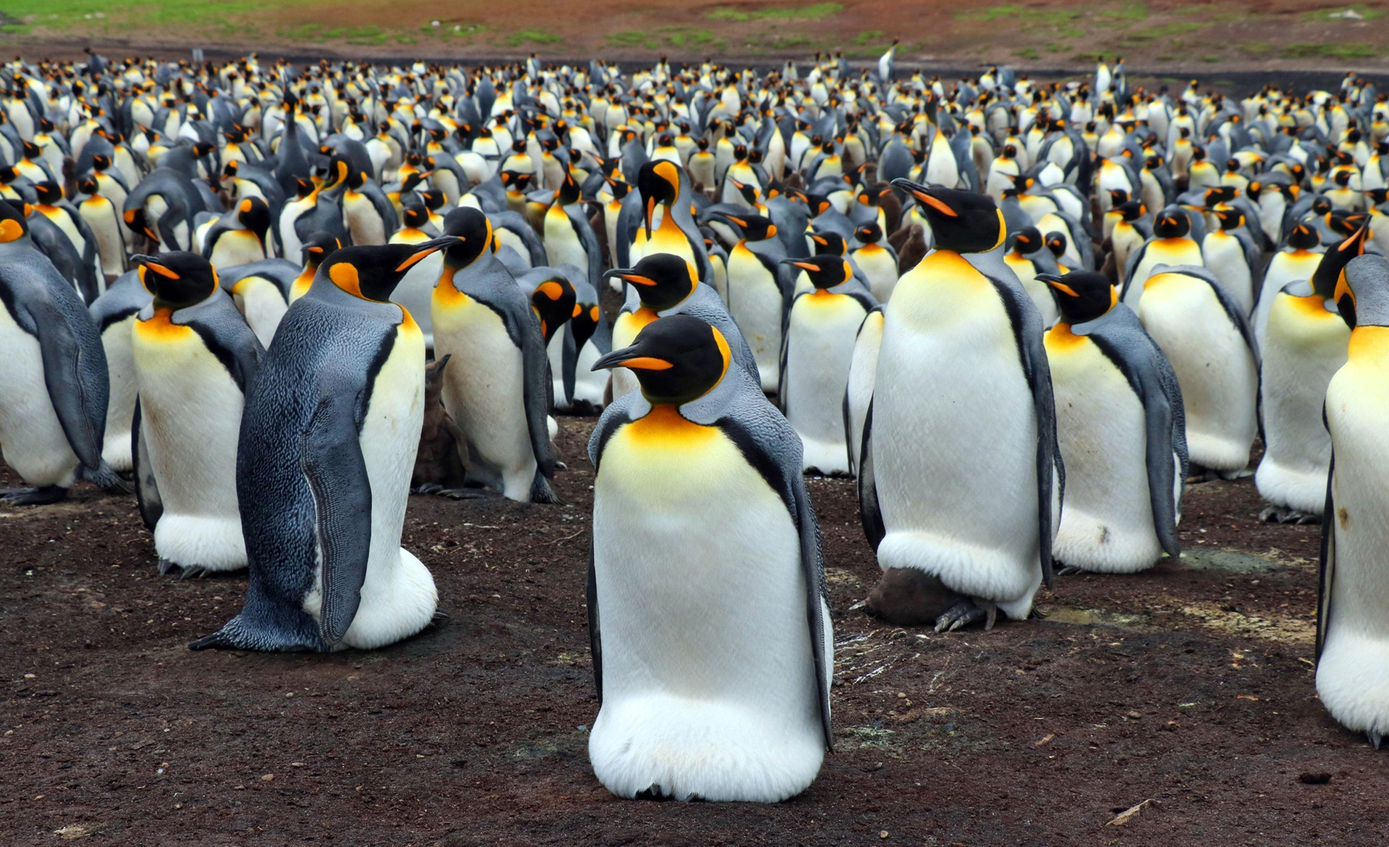Penguin: (586, 315, 833, 803), (190, 236, 456, 654), (857, 179, 1064, 632), (1039, 271, 1188, 572), (130, 252, 263, 575), (0, 201, 127, 504), (432, 206, 556, 501), (1316, 255, 1389, 746), (608, 160, 760, 382), (1256, 228, 1367, 523), (1137, 266, 1258, 477), (779, 255, 874, 474), (727, 214, 792, 393), (539, 266, 613, 414), (1248, 225, 1327, 349), (10, 198, 95, 308), (1185, 202, 1262, 319), (32, 179, 109, 294), (1123, 206, 1201, 311), (732, 176, 809, 275), (544, 162, 601, 293), (996, 221, 1062, 328), (84, 149, 150, 254), (128, 167, 204, 252), (516, 263, 575, 369), (76, 174, 130, 288), (339, 167, 409, 245), (201, 195, 274, 268), (281, 172, 330, 280), (595, 176, 645, 275), (234, 123, 297, 199), (1103, 198, 1155, 287), (1034, 119, 1091, 199), (845, 220, 901, 300), (1209, 182, 1270, 255), (486, 210, 550, 272), (916, 104, 961, 190), (786, 187, 855, 243), (994, 165, 1063, 220), (222, 159, 288, 216), (274, 117, 323, 193), (806, 226, 863, 291), (462, 168, 530, 220), (319, 144, 365, 215), (1257, 176, 1299, 253), (750, 93, 787, 180), (154, 140, 223, 186), (1042, 211, 1092, 272), (1093, 153, 1137, 221), (389, 197, 441, 254), (422, 152, 470, 213), (877, 117, 918, 185), (1299, 192, 1351, 245), (720, 143, 761, 210), (100, 127, 149, 182), (36, 115, 76, 182), (0, 87, 43, 149), (699, 233, 736, 305), (611, 127, 653, 185), (1140, 153, 1174, 221), (807, 164, 871, 200), (698, 199, 751, 241), (365, 135, 404, 191), (214, 131, 257, 181), (986, 139, 1018, 206), (849, 184, 896, 229), (599, 154, 631, 220), (1181, 140, 1222, 191), (19, 139, 58, 191), (1102, 187, 1131, 256), (491, 83, 525, 140), (688, 135, 720, 194), (67, 111, 100, 166), (524, 183, 566, 226), (13, 73, 49, 123), (470, 125, 505, 176), (0, 101, 27, 167), (497, 135, 534, 181), (1046, 232, 1083, 278), (201, 86, 236, 133), (536, 137, 571, 184), (806, 141, 847, 181), (0, 164, 34, 212), (262, 99, 298, 144), (123, 85, 158, 131), (968, 125, 996, 182), (1114, 118, 1152, 158), (395, 92, 433, 132), (420, 188, 456, 230), (557, 122, 597, 159), (672, 120, 699, 174), (795, 129, 826, 176), (842, 116, 870, 168), (1002, 124, 1032, 172), (1359, 136, 1389, 184), (425, 126, 462, 164), (1318, 161, 1358, 196), (1366, 201, 1389, 261), (394, 148, 426, 191), (1205, 114, 1240, 153), (944, 112, 973, 159), (1168, 124, 1193, 178), (1261, 152, 1306, 182), (181, 111, 221, 144), (1295, 122, 1328, 162), (1144, 93, 1169, 145), (343, 110, 375, 149), (773, 94, 796, 148), (719, 73, 745, 119), (1224, 156, 1259, 189), (356, 86, 388, 122), (242, 93, 267, 138), (575, 104, 600, 149), (1338, 125, 1366, 165), (876, 35, 902, 78), (1317, 103, 1346, 141), (162, 100, 188, 142), (1302, 149, 1330, 188), (649, 134, 680, 169), (129, 119, 158, 156), (384, 118, 415, 152), (1015, 90, 1043, 127), (457, 86, 482, 127), (986, 102, 1011, 143), (1347, 76, 1377, 110), (94, 81, 116, 125), (1069, 89, 1092, 131), (310, 87, 331, 133), (1197, 104, 1228, 135), (610, 369, 640, 401), (565, 147, 589, 187), (84, 102, 113, 135), (435, 100, 463, 134), (80, 46, 107, 81), (644, 117, 668, 156), (692, 93, 721, 125), (716, 118, 749, 146), (69, 78, 92, 118), (335, 89, 356, 132), (257, 71, 285, 103), (1111, 53, 1130, 100), (825, 98, 846, 140), (604, 94, 629, 129), (489, 114, 513, 150), (1239, 120, 1268, 149), (1049, 79, 1070, 119), (979, 66, 1014, 90), (1268, 125, 1295, 156), (1093, 53, 1112, 97), (968, 94, 989, 133), (590, 88, 609, 131), (526, 116, 555, 144), (120, 59, 148, 88), (673, 77, 701, 106), (536, 87, 562, 118), (847, 84, 871, 117), (322, 69, 342, 108), (1168, 106, 1193, 137), (1354, 185, 1389, 206), (450, 120, 476, 148), (44, 85, 63, 122), (1364, 111, 1389, 139), (252, 82, 280, 107), (432, 71, 457, 99), (300, 97, 319, 133), (876, 103, 907, 125), (1251, 103, 1276, 130), (1091, 102, 1114, 131), (155, 85, 173, 122), (374, 98, 402, 121), (588, 57, 609, 87), (955, 80, 976, 110), (803, 50, 822, 83), (791, 104, 817, 128), (645, 108, 661, 147), (807, 76, 828, 105), (1328, 147, 1366, 163), (218, 61, 238, 90), (883, 77, 903, 106), (1303, 91, 1337, 108), (1183, 78, 1205, 104), (435, 87, 457, 113), (1079, 118, 1097, 149), (227, 72, 247, 99), (449, 62, 469, 89), (394, 76, 416, 100), (801, 91, 819, 120), (699, 64, 717, 93), (910, 67, 929, 93), (866, 86, 883, 115), (182, 90, 200, 117), (347, 74, 365, 101), (1249, 87, 1271, 109), (631, 67, 651, 91), (658, 89, 675, 117), (1295, 100, 1314, 125), (820, 52, 838, 78), (893, 87, 915, 108), (626, 102, 646, 125), (669, 95, 689, 118), (1012, 74, 1036, 93), (783, 60, 801, 85), (1278, 105, 1295, 131), (625, 86, 646, 107), (652, 54, 671, 77), (640, 78, 659, 101), (759, 75, 783, 93), (313, 103, 327, 133), (1370, 93, 1389, 115), (1101, 83, 1120, 105), (608, 61, 627, 83), (507, 78, 523, 104), (570, 67, 587, 91), (562, 99, 578, 124), (606, 79, 631, 95), (928, 75, 944, 100), (0, 70, 14, 98), (527, 52, 542, 78), (301, 71, 322, 89), (239, 57, 254, 82), (111, 67, 128, 89), (907, 100, 922, 124), (836, 53, 851, 77), (173, 77, 188, 100), (1266, 85, 1285, 103), (290, 75, 304, 99), (335, 80, 351, 101), (248, 52, 263, 73), (858, 67, 876, 84), (1277, 87, 1293, 106), (412, 56, 428, 75), (302, 65, 323, 79), (715, 64, 732, 81), (346, 97, 362, 115), (572, 86, 588, 104), (677, 64, 695, 79), (1115, 73, 1126, 96), (272, 66, 283, 88), (655, 78, 675, 90), (742, 78, 757, 93), (582, 85, 590, 109), (561, 65, 573, 81), (701, 58, 713, 73), (745, 64, 757, 78), (300, 87, 309, 103), (766, 67, 778, 78)
